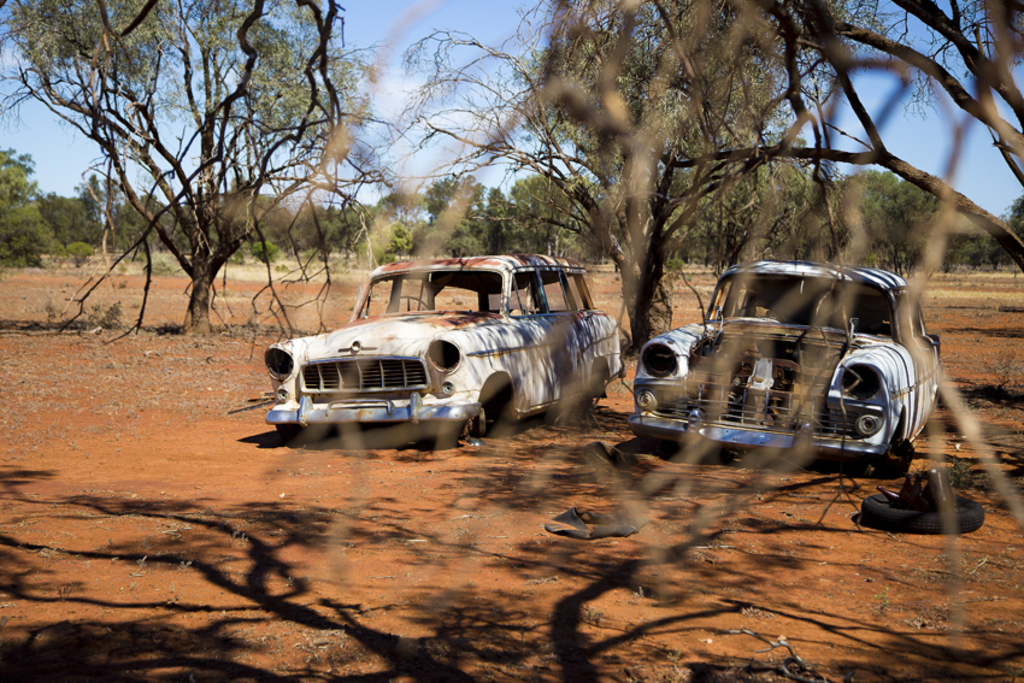Car: (262, 248, 622, 438), (626, 255, 943, 468)
